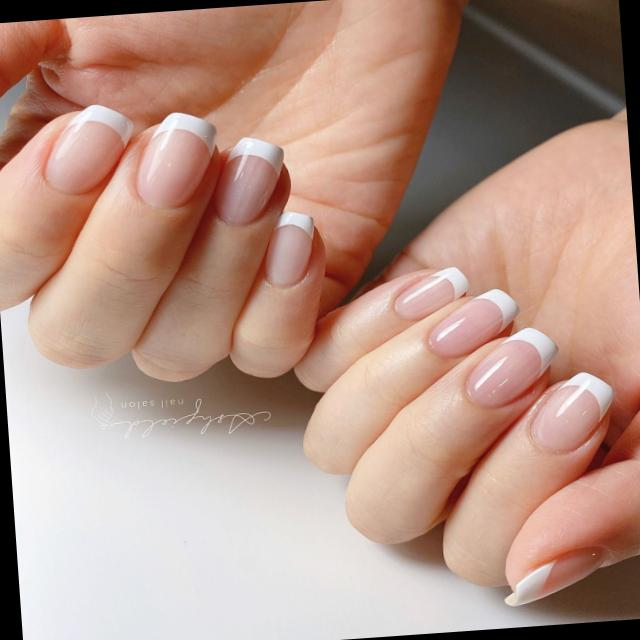Nail: (43, 104, 132, 192), (134, 111, 214, 208), (464, 326, 557, 407), (530, 371, 612, 450), (427, 288, 518, 356), (213, 137, 282, 224), (504, 546, 605, 605), (393, 265, 468, 319), (263, 209, 313, 284)
